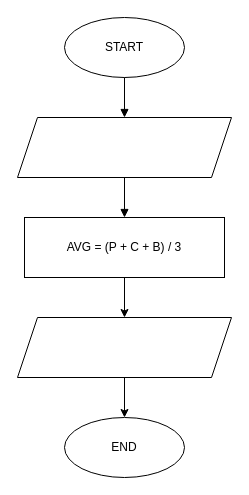
Image size: 249x495. Some labels were removed from this diagram. Here are the shapes that lost their labels. From the top down, the centre of each, then its label:
the point at 124,147: INPUT P C B
the point at 124,347: DISPLAY AVG
